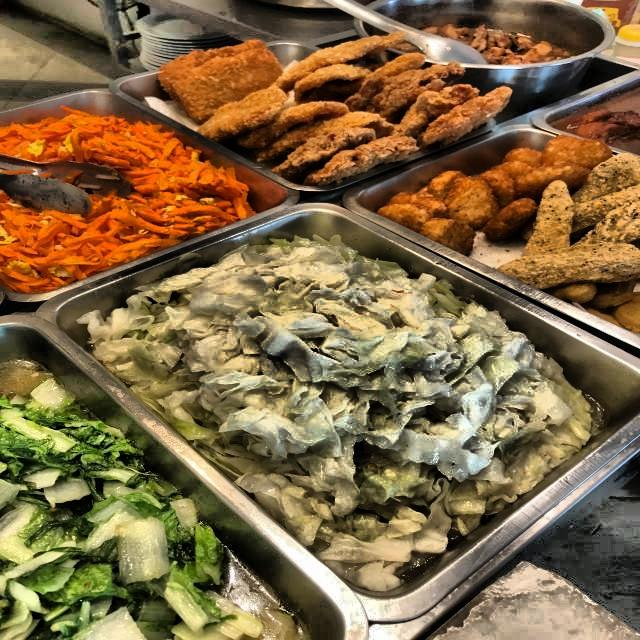Food: (190, 259, 534, 503), (0, 125, 204, 266), (399, 154, 548, 242)
